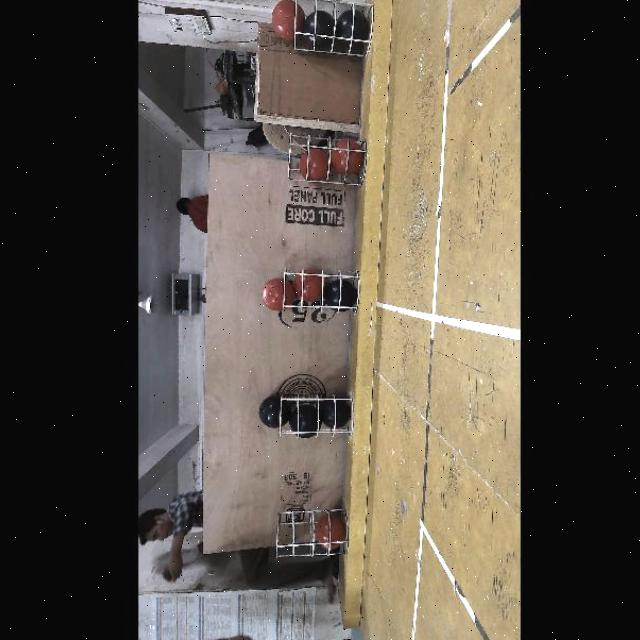P: (334, 11, 370, 43), (304, 11, 334, 47), (258, 396, 286, 426), (290, 405, 316, 437), (326, 282, 354, 310), (322, 398, 348, 427)
R: (270, 0, 305, 40), (261, 278, 294, 311), (300, 149, 332, 181), (316, 514, 344, 550), (332, 140, 362, 172), (296, 270, 324, 302)
S: (286, 129, 368, 191), (287, 0, 368, 62), (269, 506, 347, 560), (280, 268, 358, 316), (274, 391, 358, 435)
